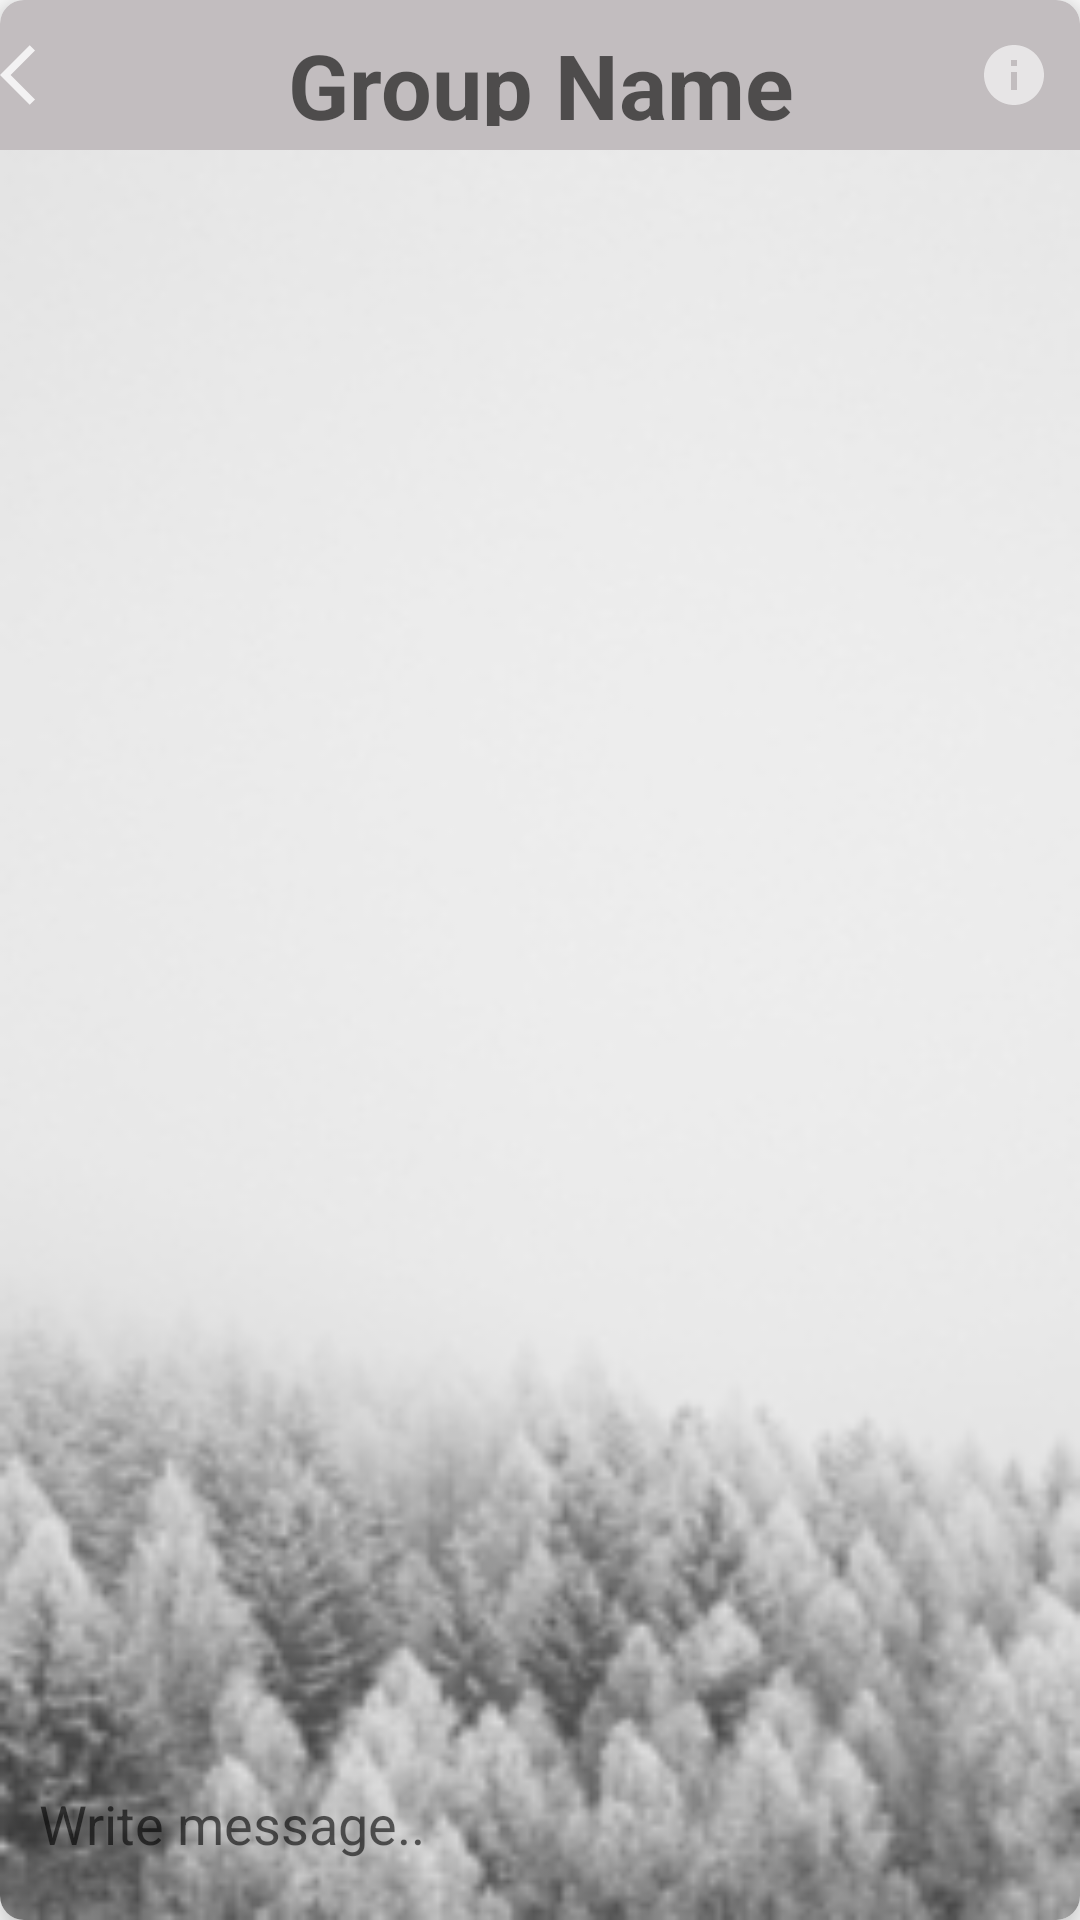

Named icons in this screenshot (1080x1920) and their centers, point (x, y):
back: point (17, 75)
info: point (1014, 75)
